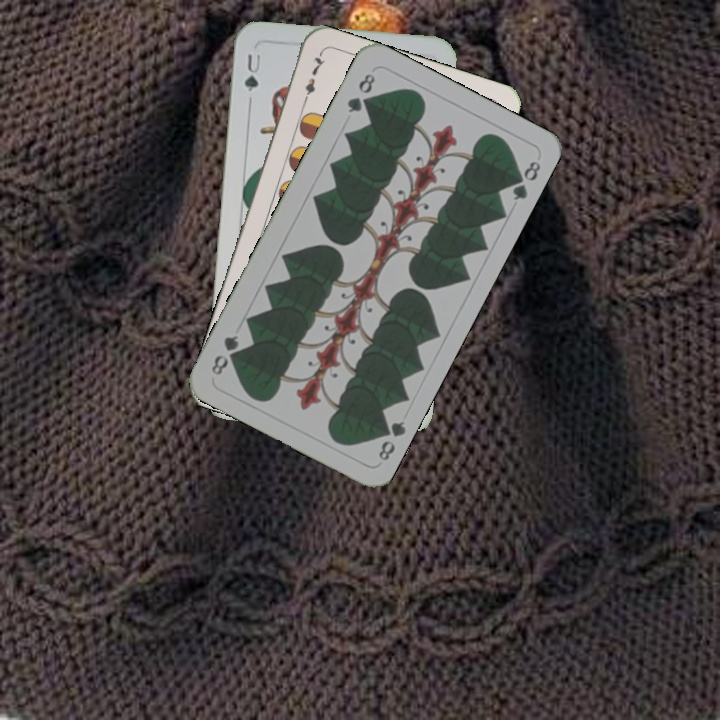E7: (298, 50, 328, 107)
G8: (373, 416, 409, 464), (343, 69, 378, 116)
GU: (240, 50, 263, 95)
